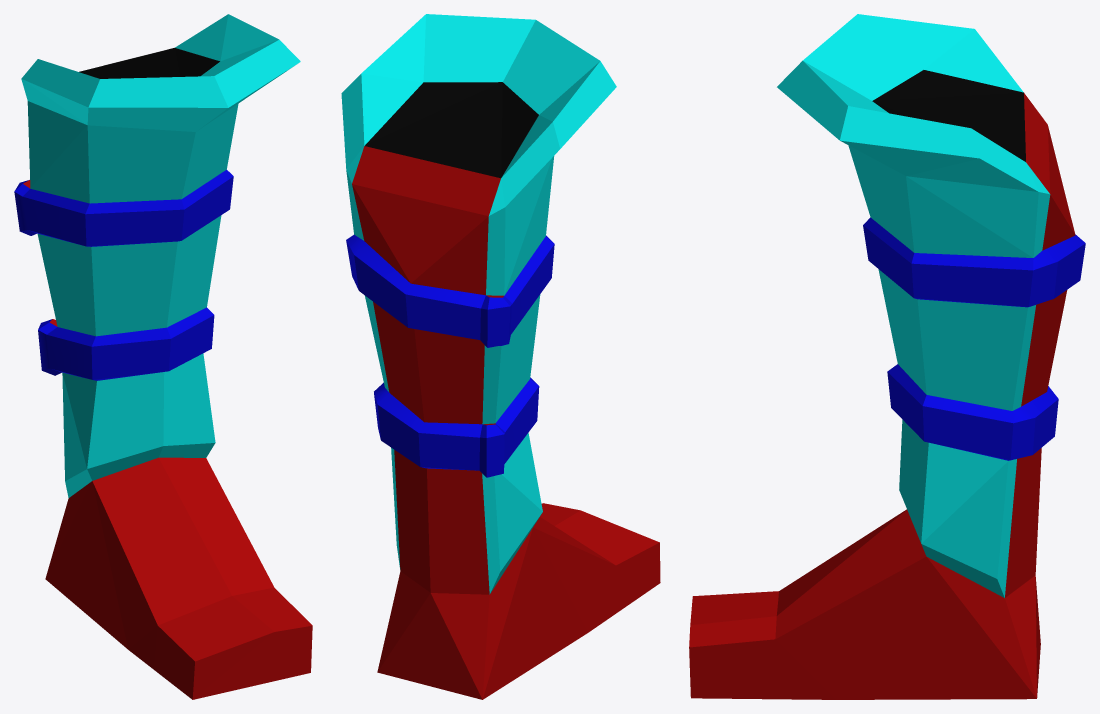
Rendered from Chr_LegLeft_Male_Static_08.fbx.
3 renders of one model, left to right at view 1: azimuth 30°, elevation 25°; view 2: azimuth 150°, elevation 25°; view 3: azimuth 270°, elevation 25°, orthographic. The views are drawn at different scales.
Parts seen in each view (by area): view 1: Chr_LegLeft_Male_08; view 2: Chr_LegLeft_Male_08; view 3: Chr_LegLeft_Male_08.
Boxes of the visible parts, x1=… form: Chr_LegLeft_Male_08: x1=14, y1=14, x2=312, y2=699; Chr_LegLeft_Male_08: x1=341, y1=14, x2=660, y2=699; Chr_LegLeft_Male_08: x1=689, y1=14, x2=1085, y2=699.
Bounding box in the file's own units: 17.18 × 43.24 × 25.32.
